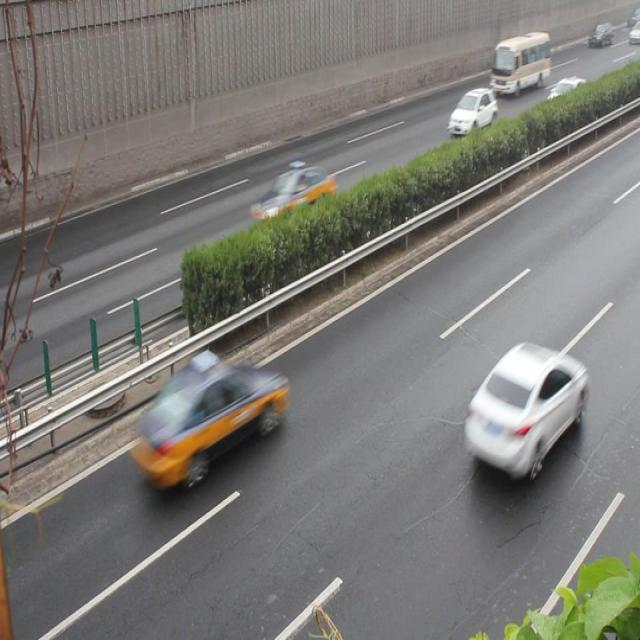car: (131, 360, 287, 486), (461, 342, 587, 477), (249, 165, 334, 231), (446, 88, 497, 138)
van: (489, 32, 549, 94)
